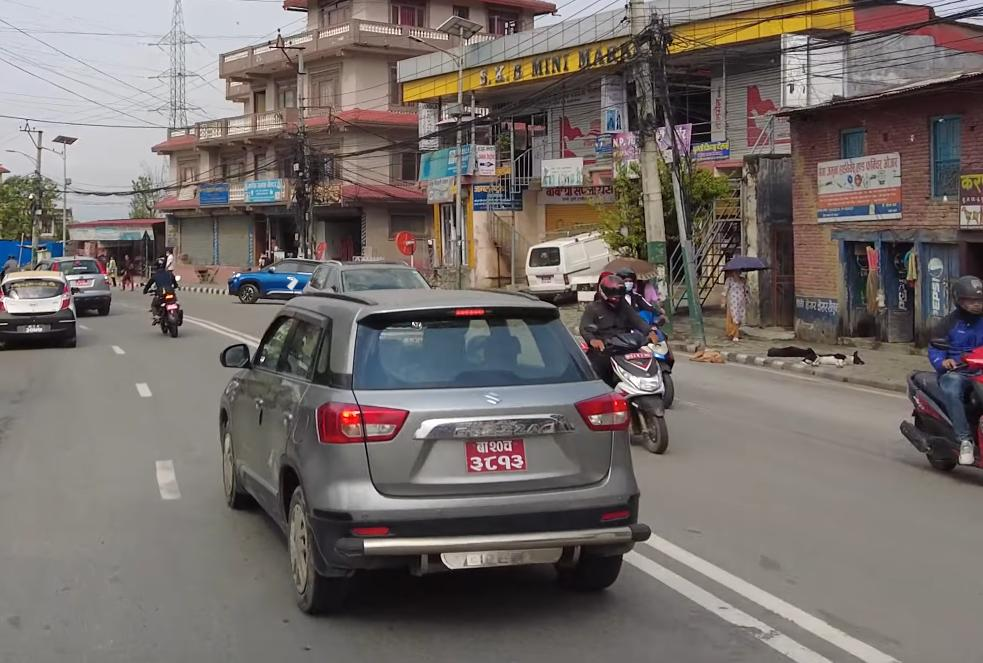bike: (145, 273, 187, 339)
car: (205, 277, 662, 608), (220, 249, 319, 306), (45, 254, 114, 316)
scooter: (575, 321, 679, 461), (901, 345, 983, 483)
taxi: (0, 267, 85, 355)
van: (522, 221, 629, 295)
